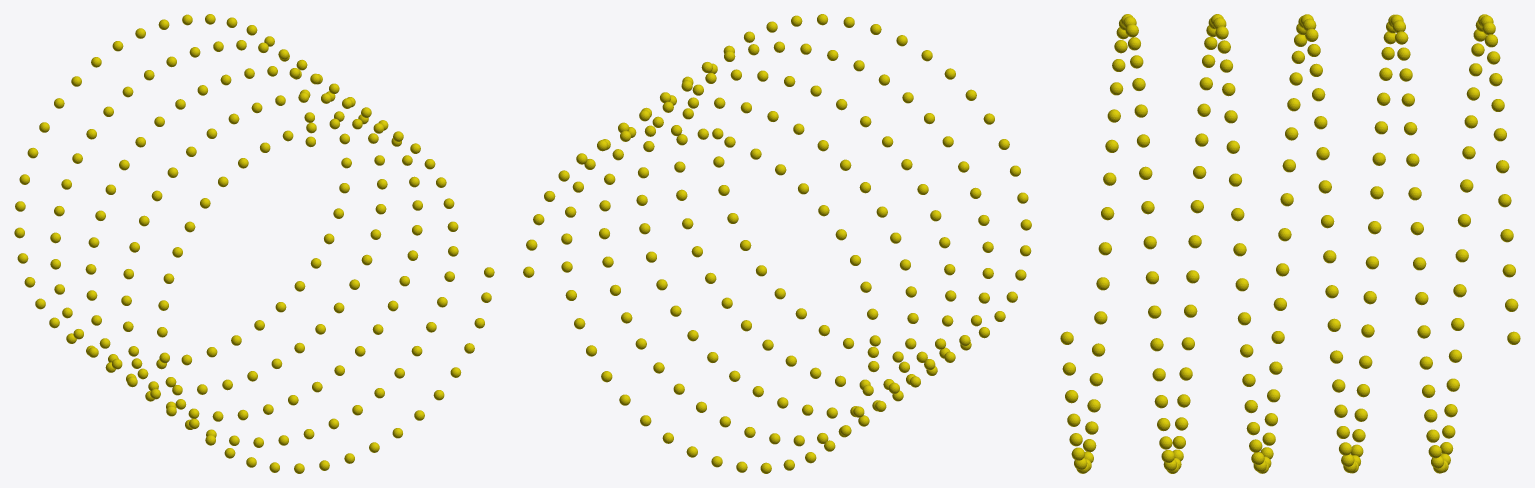
The model's file is P14_phi_resonance_spiral.glb.
3 views of the same model, side by side, from view 1: azimuth 30°, elevation 25°; view 2: azimuth 150°, elevation 25°; view 3: azimuth 270°, elevation 25° (orthographic). The views are drawn at different scales.
Visible parts, largest first — view 1: world; view 2: world; view 3: world.
Boxes of the visible parts, x1,y1,x2,y2 form: world: [14, 14, 494, 473]; world: [523, 14, 1031, 473]; world: [1060, 14, 1520, 473].
Size of the model in its own units: 2.06 by 2.06 by 2.06.
